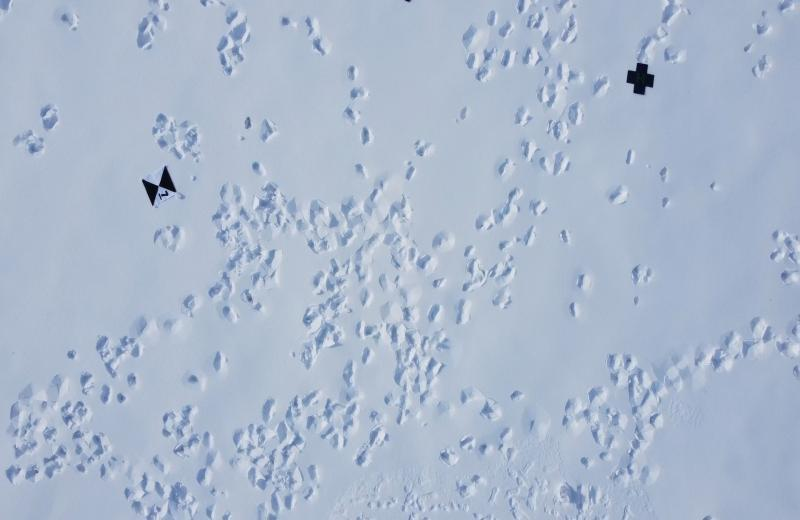Cross: (626, 62, 660, 96)
